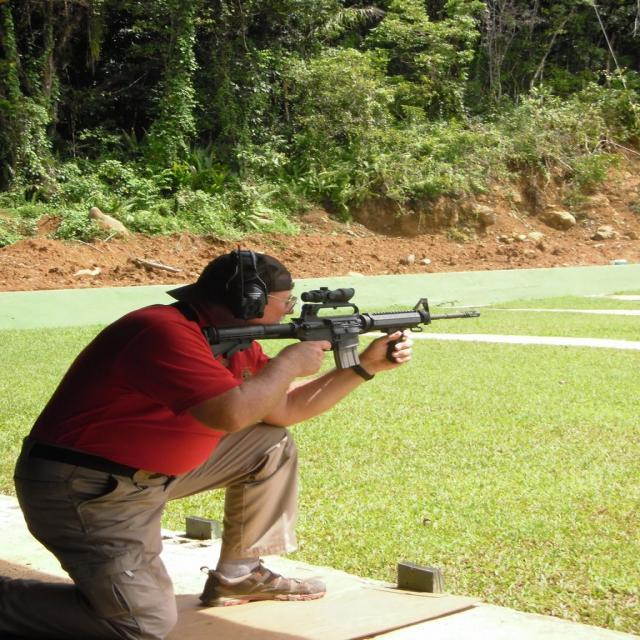weapon: (203, 296, 480, 369)
